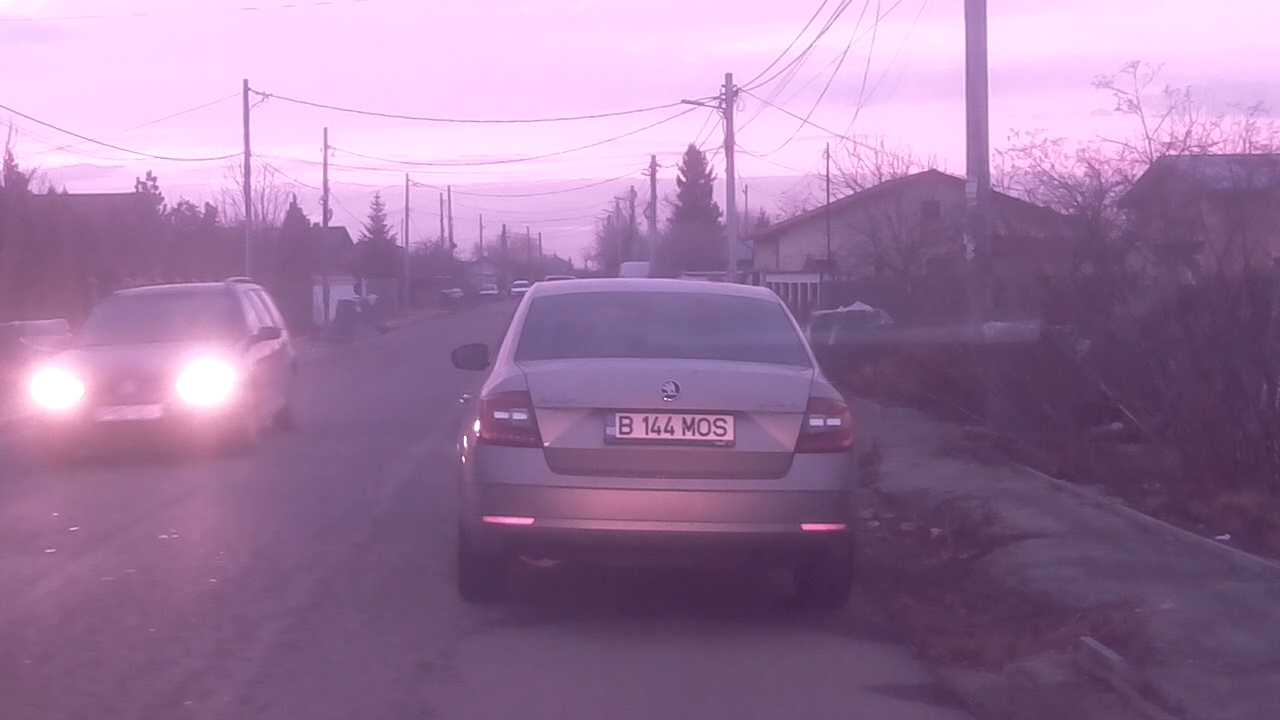license-plate: (597, 404, 741, 451)
